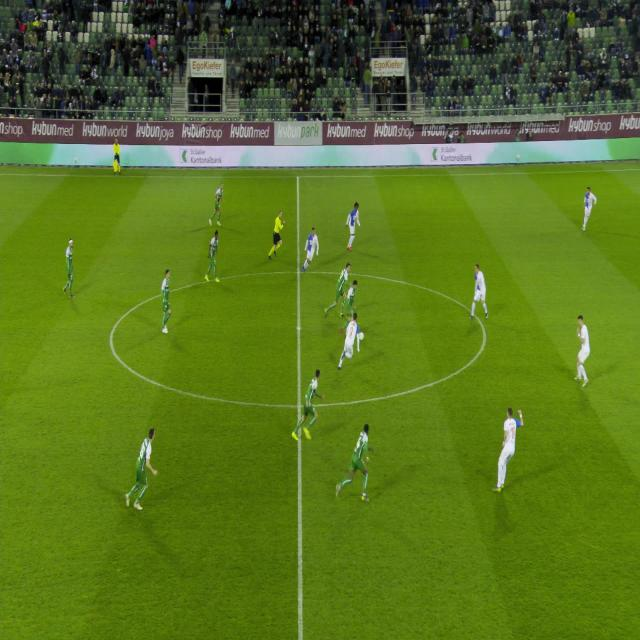Ball: (355, 319, 367, 349)
Player: (120, 422, 172, 516), (332, 418, 379, 518), (483, 403, 537, 487), (286, 358, 330, 454), (458, 249, 500, 321), (565, 304, 594, 402), (152, 257, 178, 346), (575, 171, 602, 241), (58, 230, 84, 301), (341, 192, 367, 262), (322, 257, 351, 319), (300, 215, 324, 284), (336, 304, 360, 366), (202, 220, 222, 288), (342, 280, 364, 319), (211, 182, 227, 230)
Referee: (266, 205, 291, 271), (110, 125, 123, 174)
